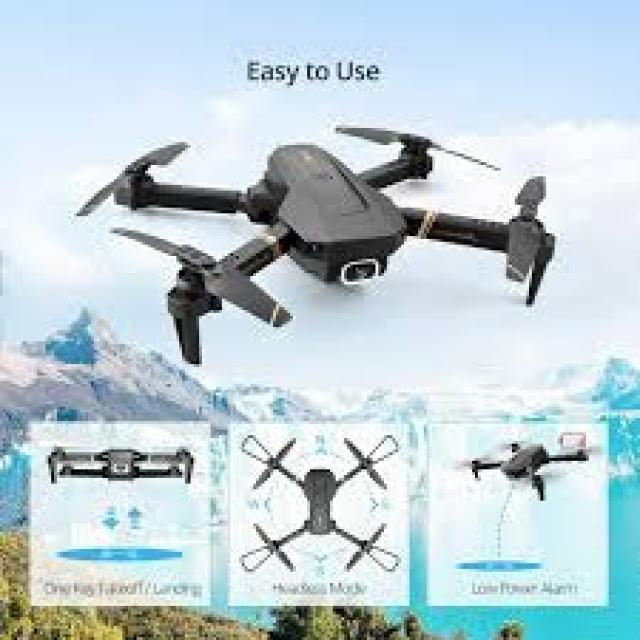drone: (56, 110, 581, 362), (230, 425, 409, 582), (446, 432, 605, 503), (38, 433, 198, 498)
